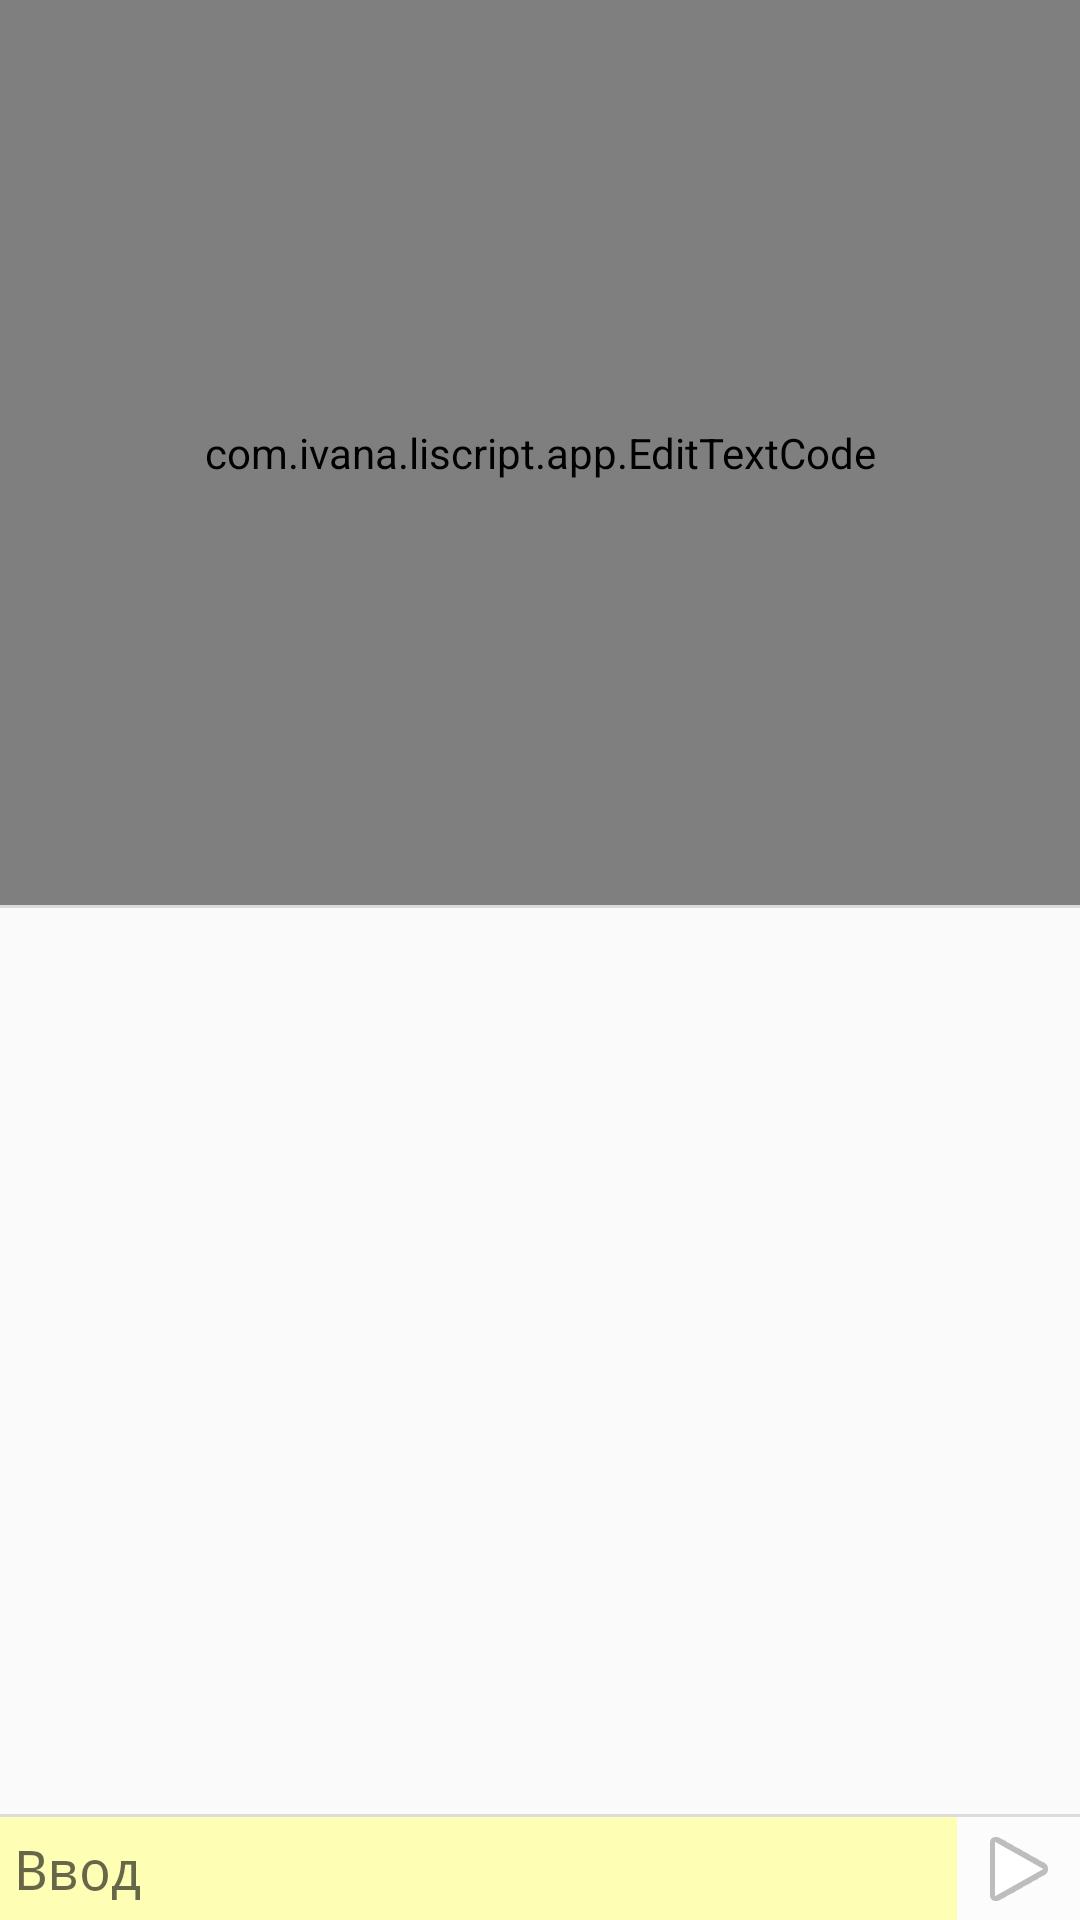

Where icons sit on this 1080x1920 app screen, as detection(x1, y1, x2, y2):
play: detection(990, 1837, 1048, 1901)
